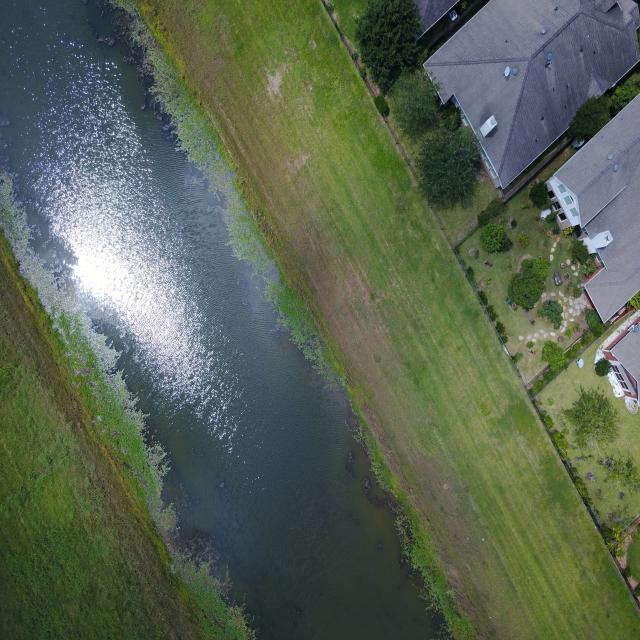fire: (0, 0, 437, 639)
